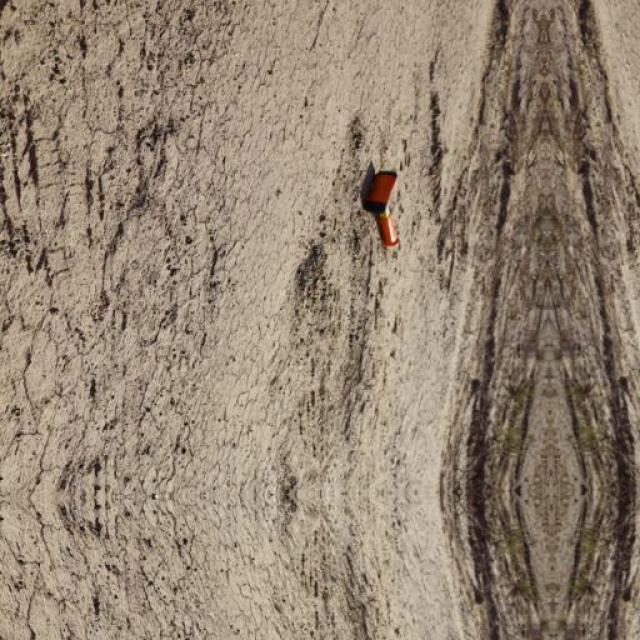mallet: (360, 158, 402, 252)
